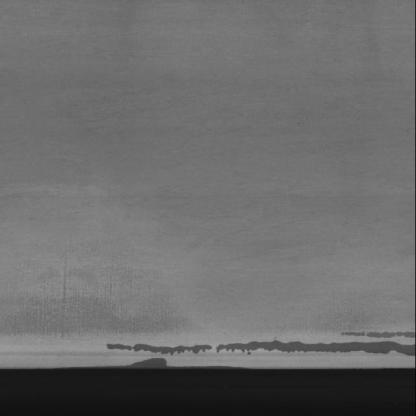oil_spot: (102, 323, 415, 357)
